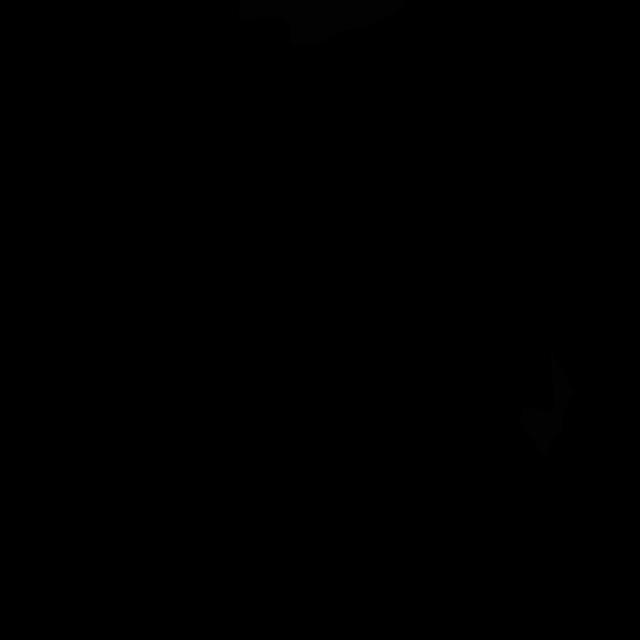cardboard: (239, 0, 405, 46), (520, 346, 577, 460)
